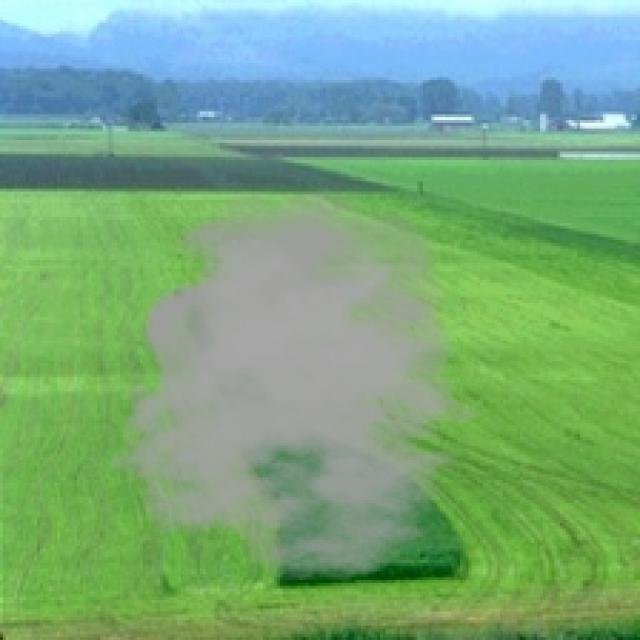Smoke: (108, 188, 503, 583)
